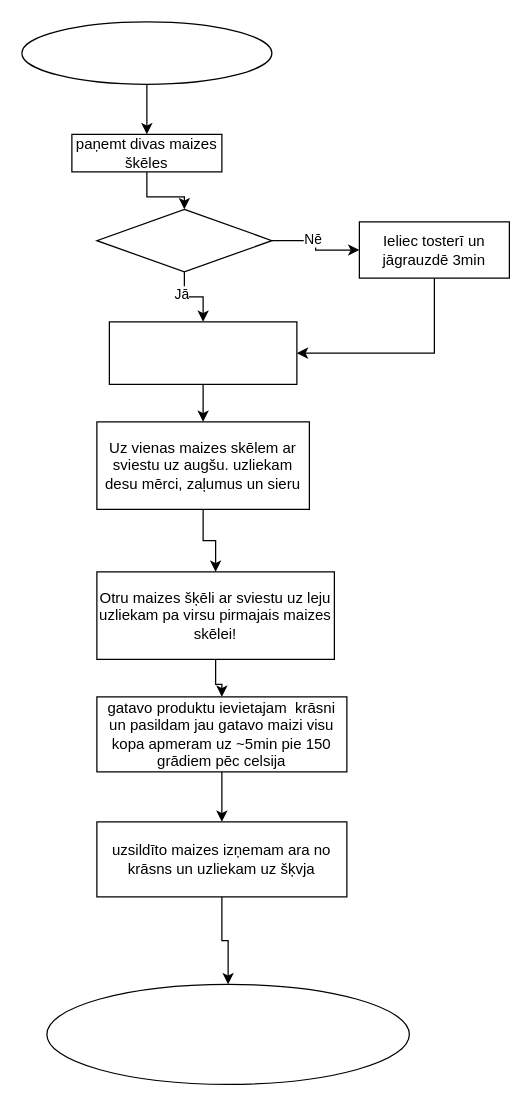
This 531x1106 diagram has some shape labels left out. Each missing label, with the centre of its shape:
"Apsmērājam maizes skēles nedaudz ar sviestu katru no vienas puses" goes at [202,352].
"Izveidot sveistmaizi" goes at [146,52].
"vai maizes ir grauzdzdētas ?" goes at [184,240].
